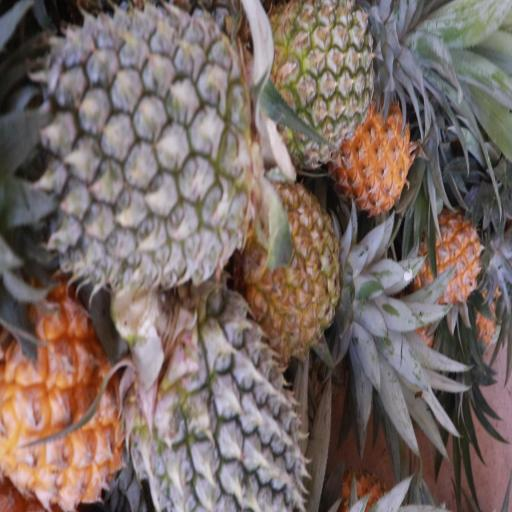------------------------------: (270, 0, 383, 162), (248, 187, 338, 343)
Pineapple - v8 v1: (2, 307, 124, 512), (342, 100, 411, 212), (412, 210, 482, 306)
